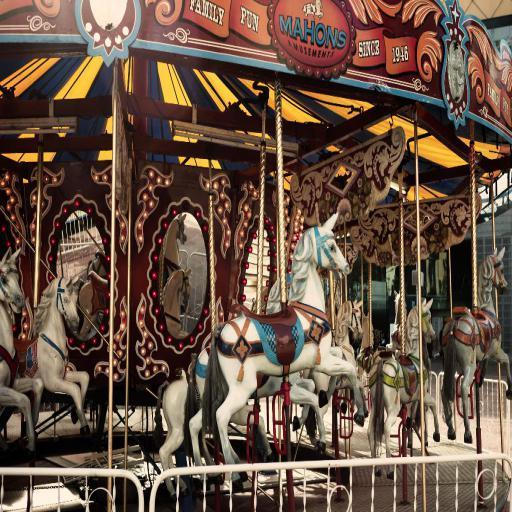horse: (150, 211, 511, 506), (14, 276, 92, 436), (0, 247, 44, 463)
